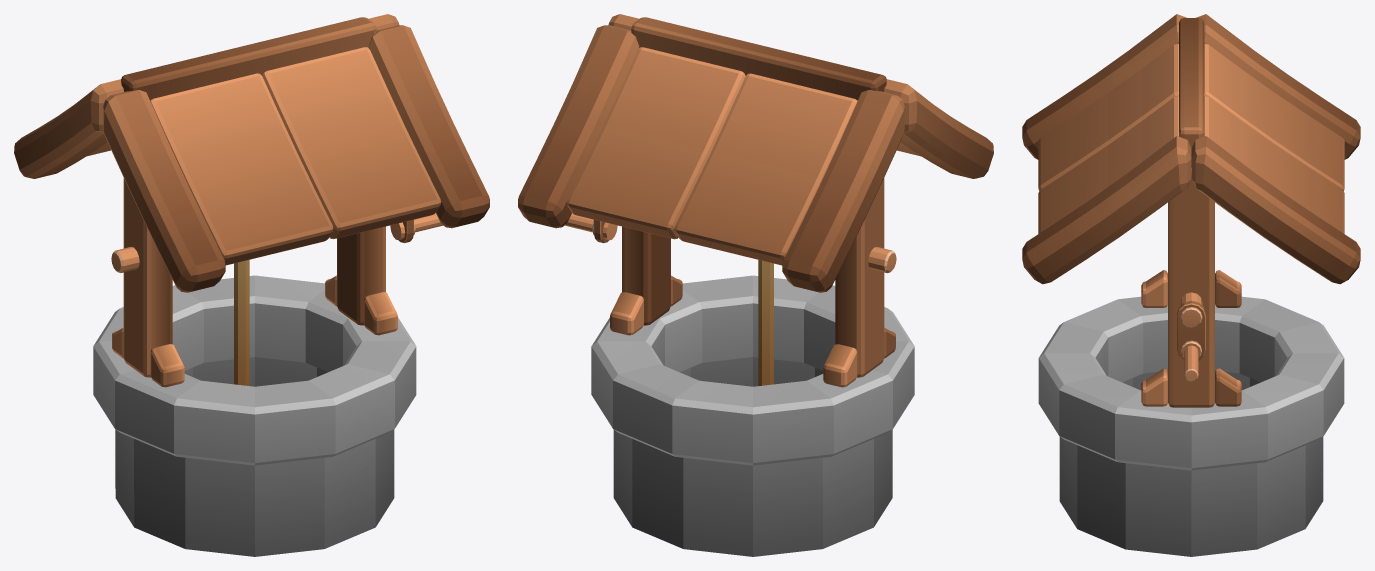
The model's file is mt_prop_well.fbx.
3 renders of one model, left to right at view 1: azimuth 30°, elevation 25°; view 2: azimuth 150°, elevation 25°; view 3: azimuth 270°, elevation 25°, orthographic. The views are drawn at different scales.
Parts seen in each view (by area): view 1: prop_well; view 2: prop_well; view 3: prop_well.
Part boxes in pixels (<box>): prop_well: <box>14,14,489,556</box>; prop_well: <box>518,14,993,556</box>; prop_well: <box>1022,14,1360,556</box>.
Size of the model in its own units: 188 by 222 by 160.
